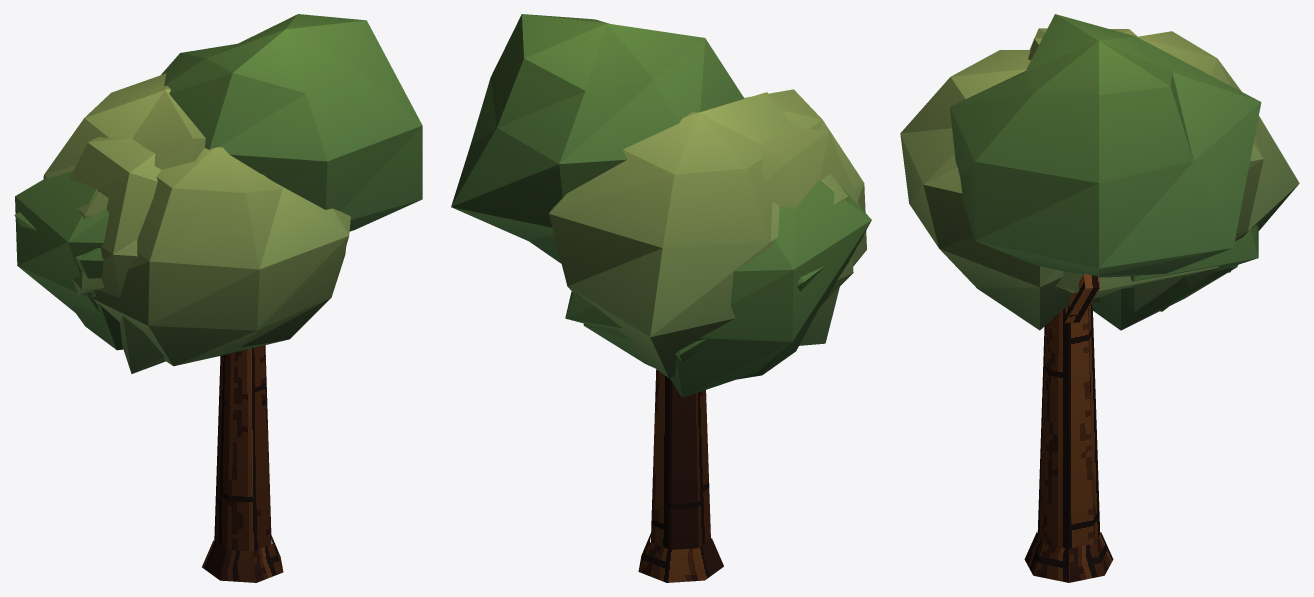
File: apple_2_lowpoly.glb
3 renders of one model, left to right at view 1: azimuth 30°, elevation 25°; view 2: azimuth 150°, elevation 25°; view 3: azimuth 270°, elevation 25°, orthographic. The views are drawn at different scales.
Parts seen in each view (by area): view 1: apple_2_lowpoly; view 2: apple_2_lowpoly; view 3: apple_2_lowpoly.
Part boxes in pixels (x1=…): apple_2_lowpoly: x1=14, y1=14, x2=422, y2=582; apple_2_lowpoly: x1=451, y1=14, x2=871, y2=582; apple_2_lowpoly: x1=900, y1=14, x2=1299, y2=582.
Bounding box in the file's own units: 3.58 × 4.81 × 3.15.
2 materials, 1 textured.
